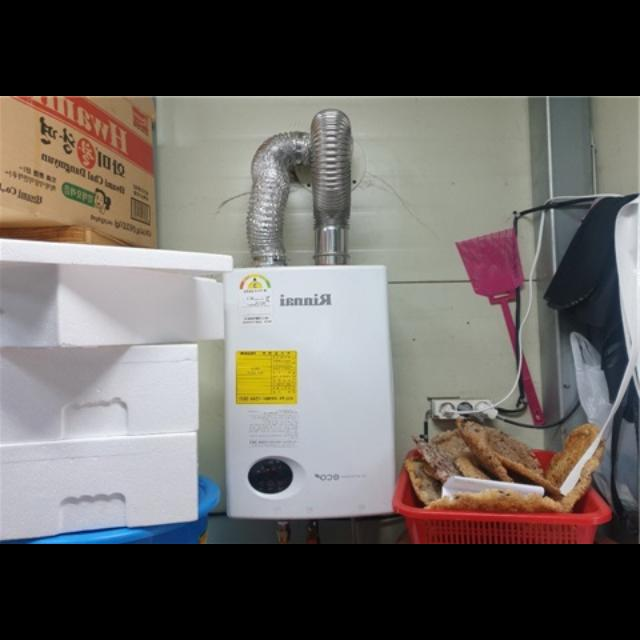Boiler: (214, 254, 410, 544)
